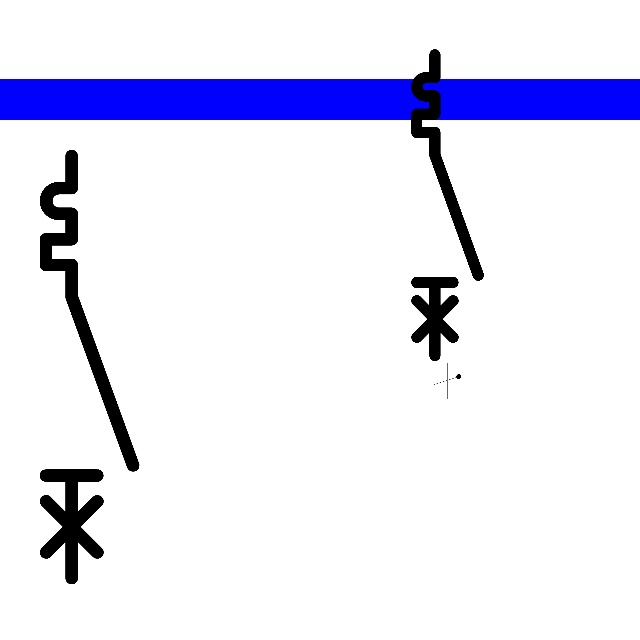interruptor_termomagnetico: (35, 145, 143, 589), (409, 47, 486, 363)
